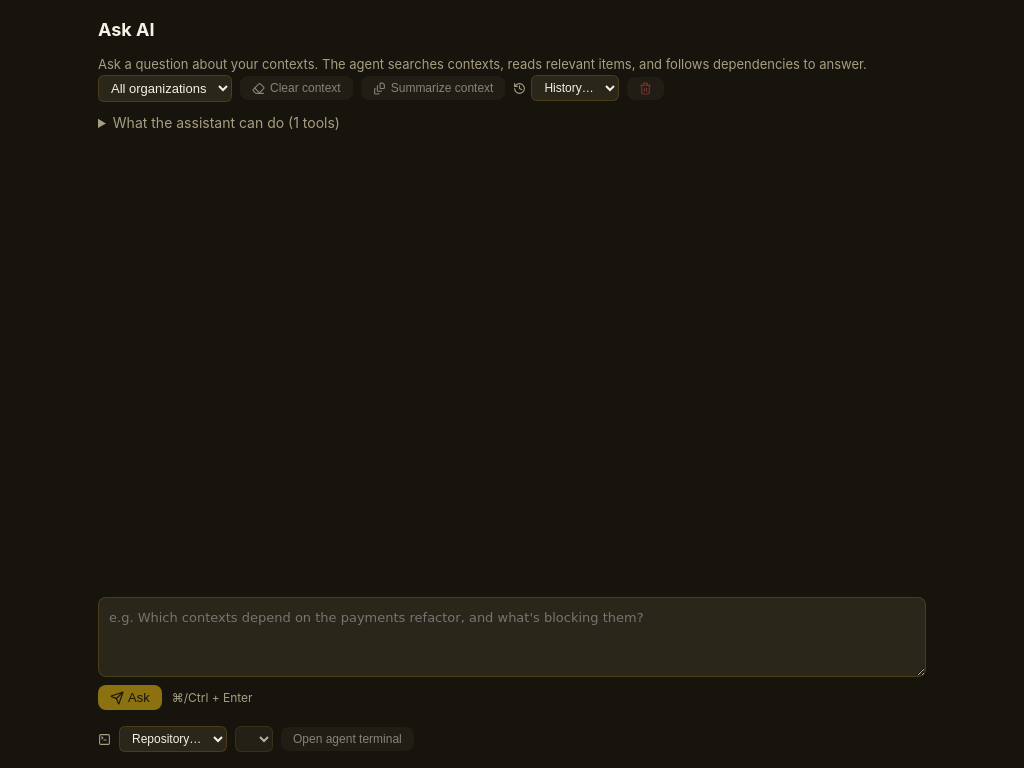
Test: AskAIPage multi-turn chat log › clears the log
This screenshot has width=1024, height=768.
In the text box: coordinates (512, 637) [98,596,926,677], type "a question"
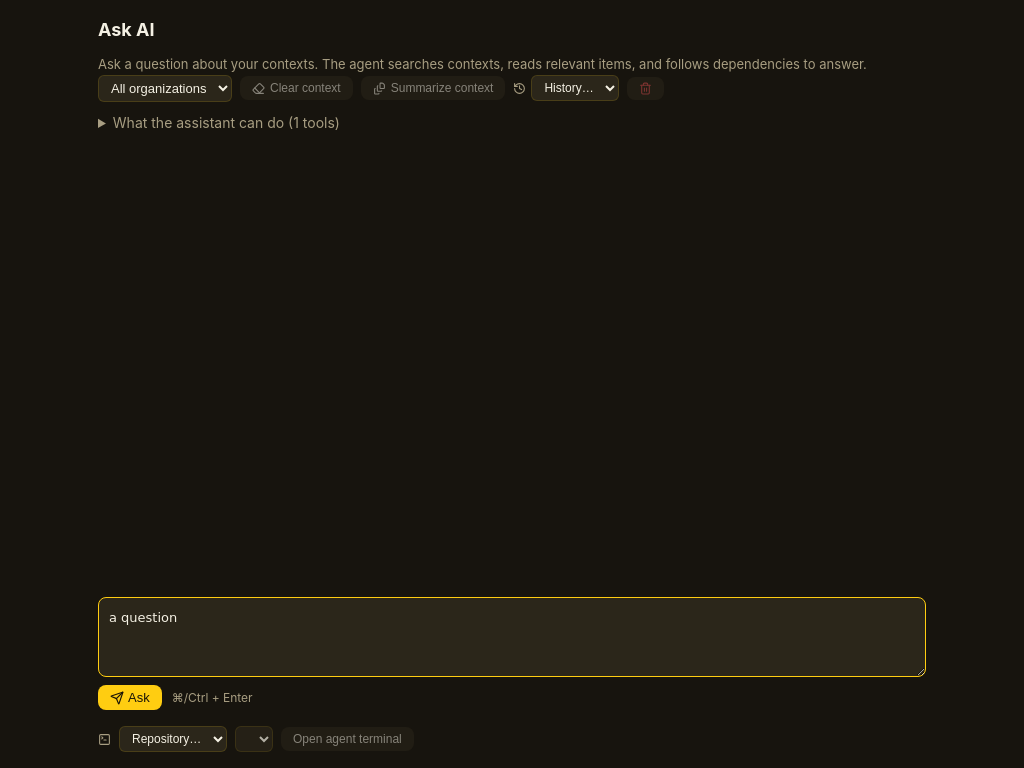
Click the button "Ask": coordinates (130, 698) [98,685,162,710]
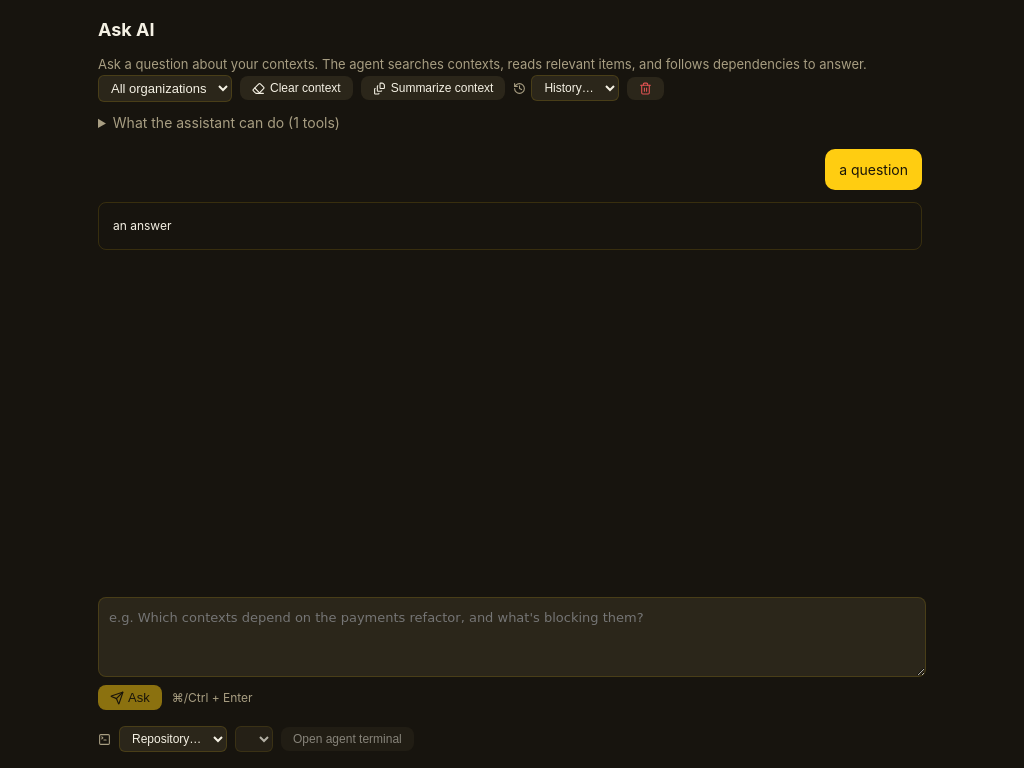
Check: the text "an answer" is shown, box [113,218,172,232]
Check: the button "Clear context" is enabled
Click the button "Clear context": coordinates (296, 88) [240,76,353,100]
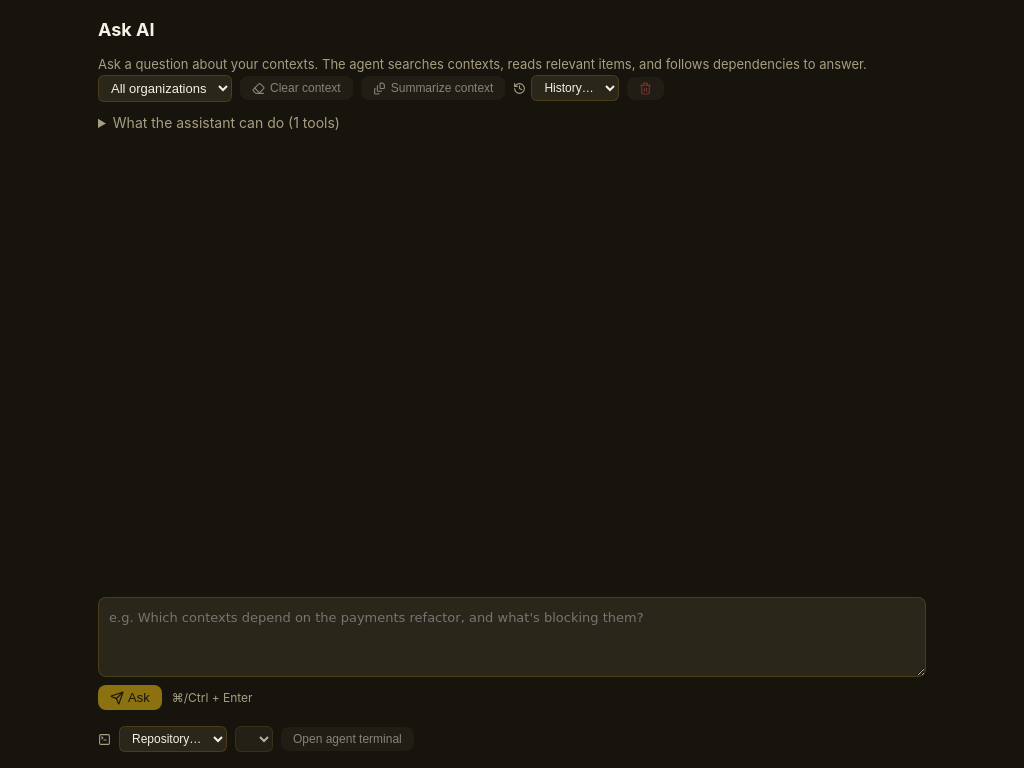
Check: the text "an answer" is gone
Check: the button "Clear context" is disabled, box [240,76,353,100]
